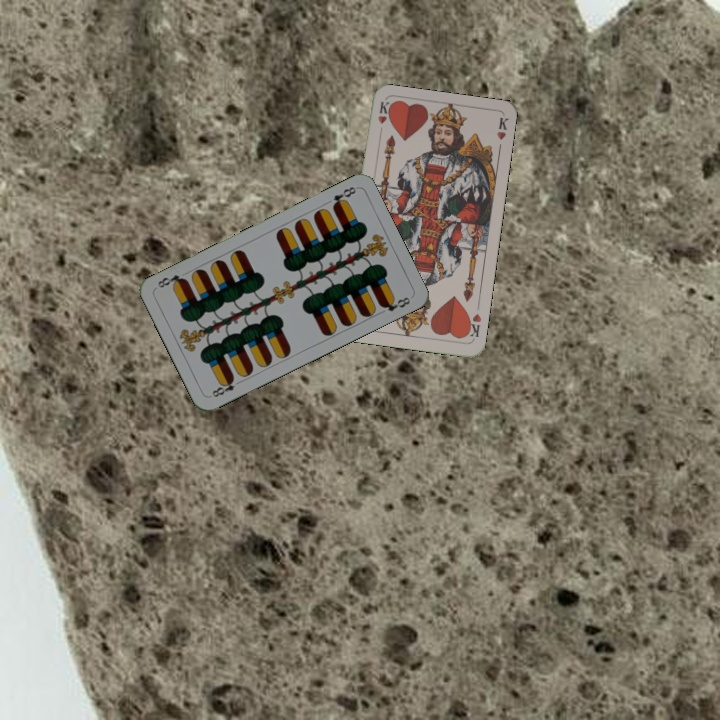E8: (208, 374, 245, 400), (328, 182, 359, 211)
HK: (374, 98, 392, 139), (462, 309, 484, 342)
